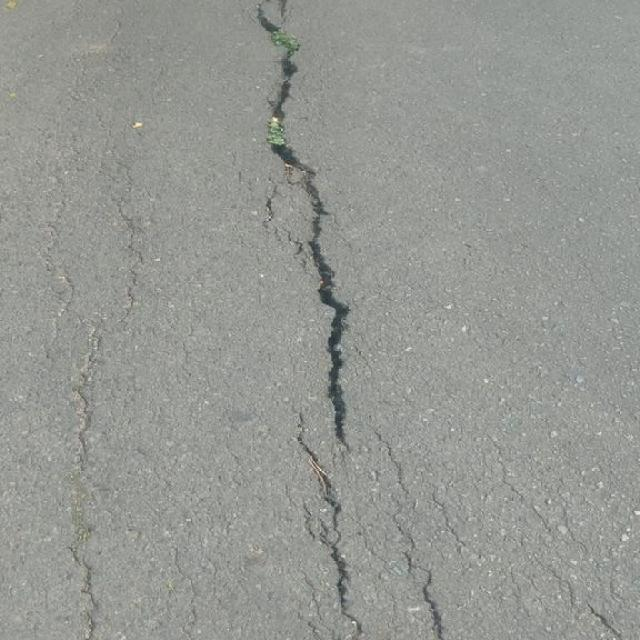Memanjang: (252, 0, 361, 473)
